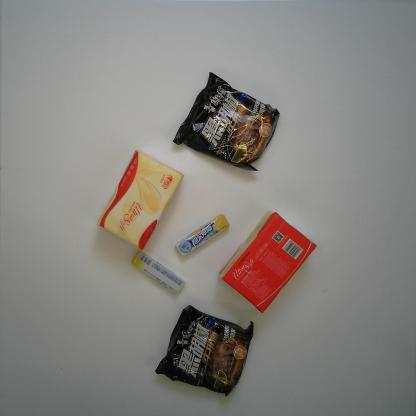Candy: (175, 211, 231, 259), (131, 249, 186, 297)
Instant Noodles: (171, 70, 282, 172), (153, 305, 258, 398)
Tissue: (218, 207, 320, 314), (94, 149, 185, 250)
